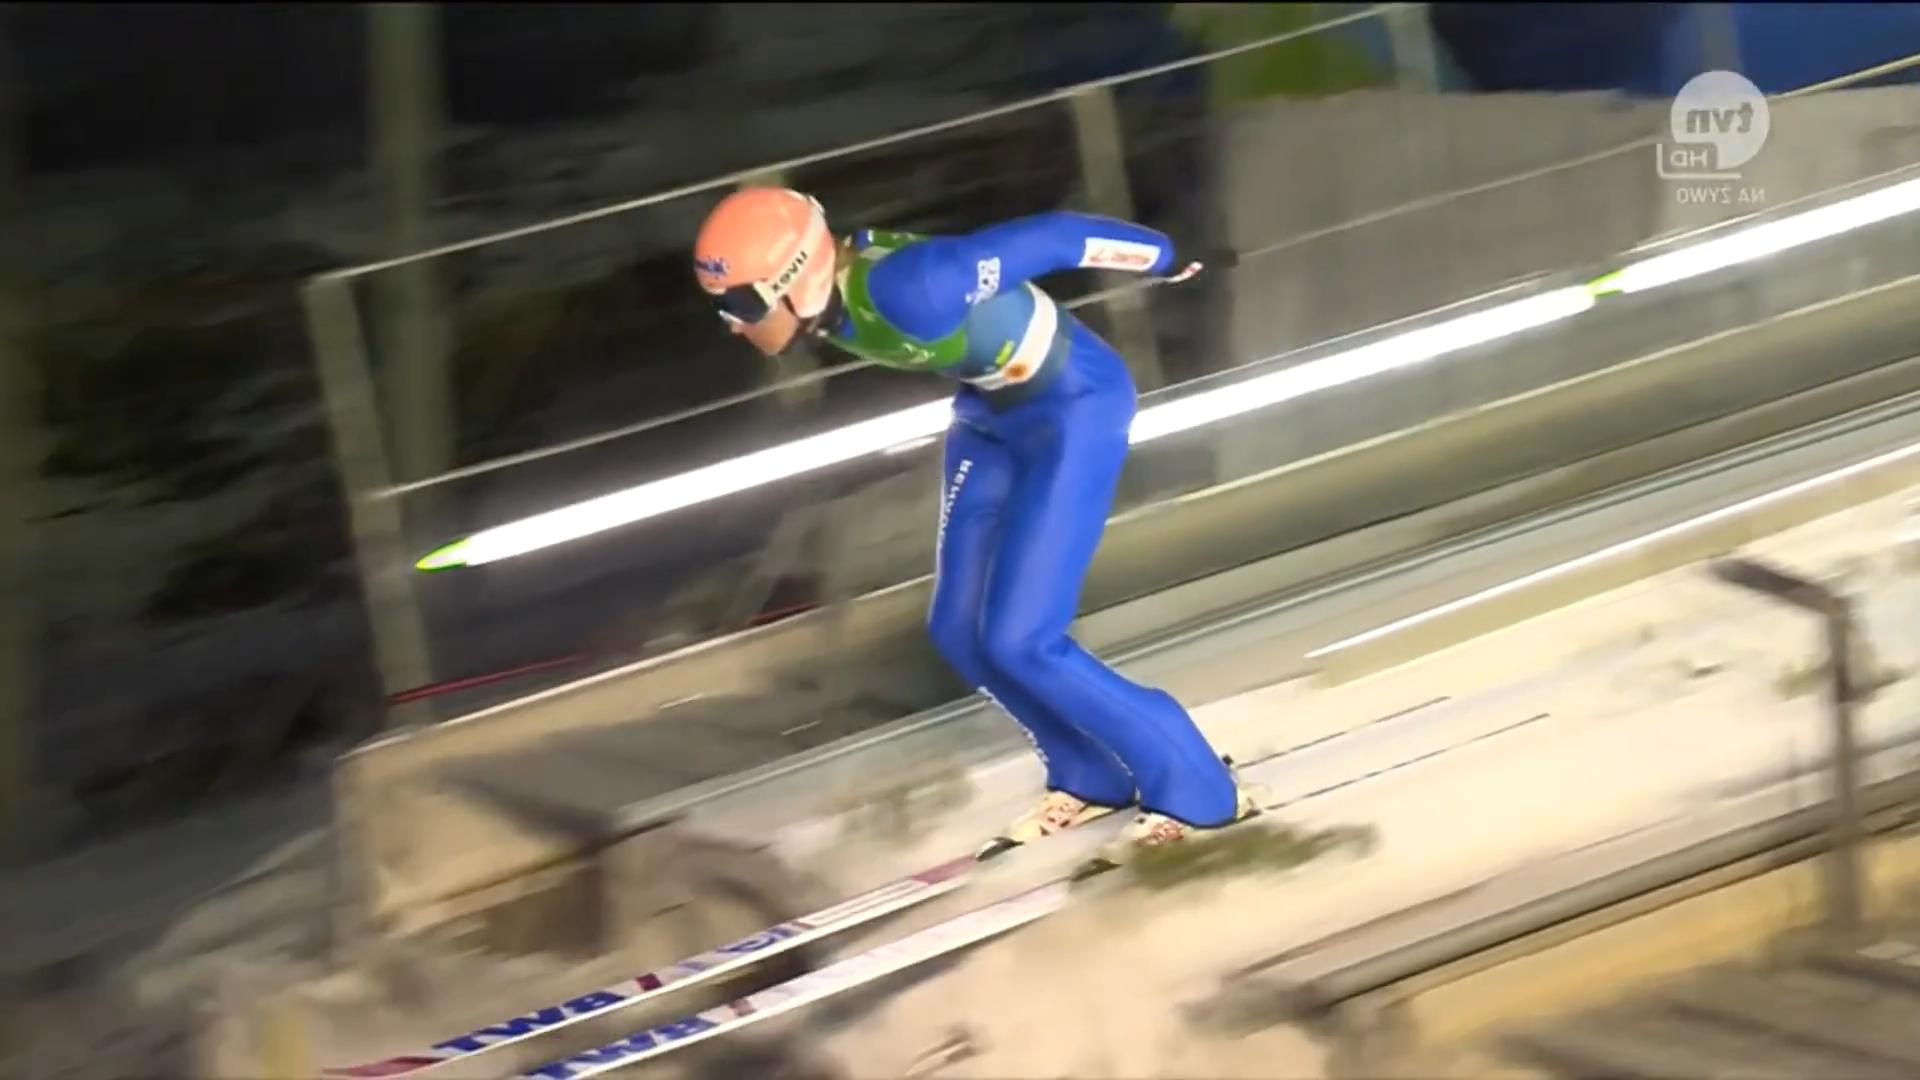prog: (454, 773, 737, 885)
